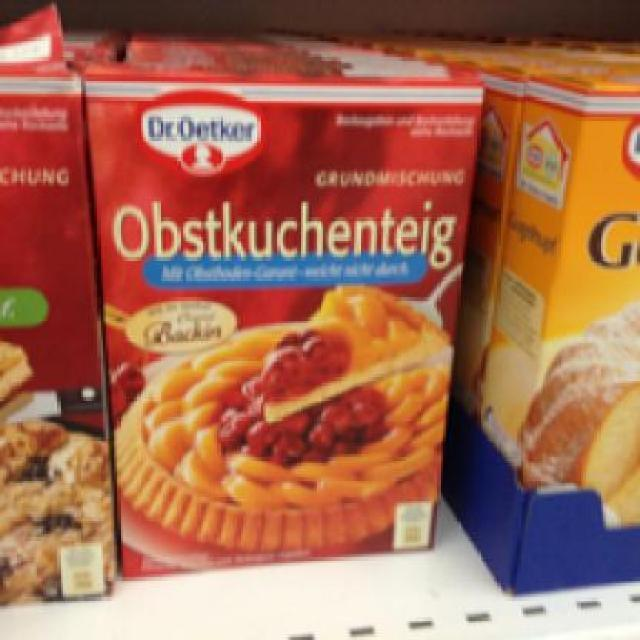Cake: (77, 57, 480, 583)
